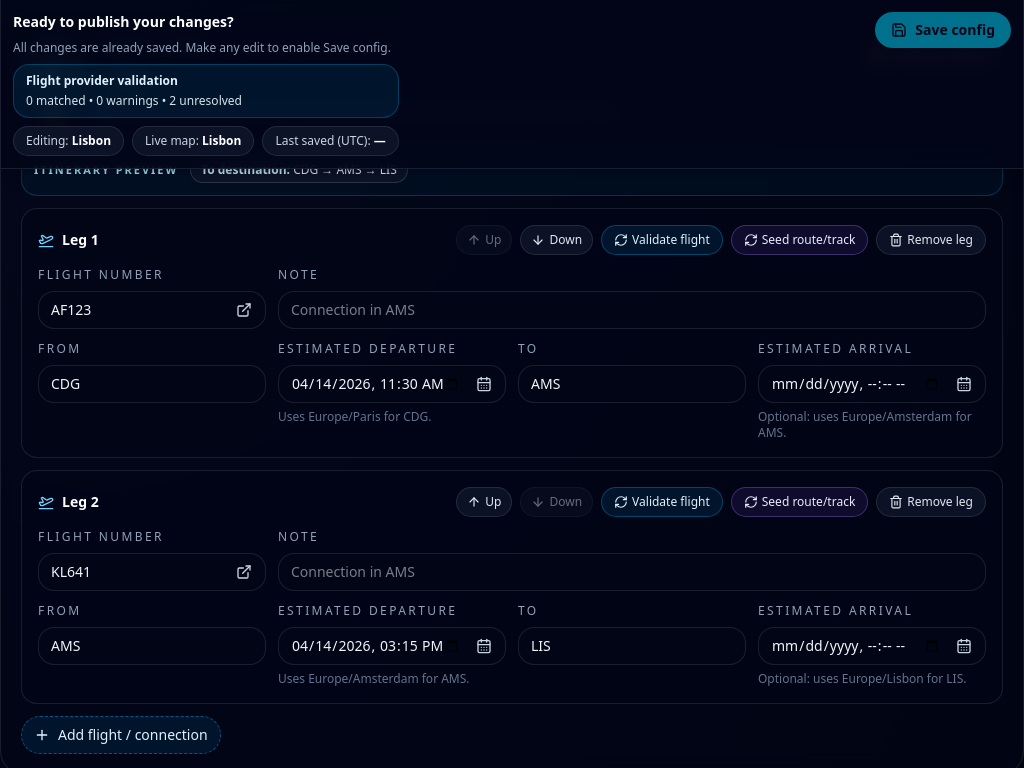
it: FriendsConfigClient › keeps the dropdown open for a unique exact airport code match so the name stays visible
This screenshot has width=1024, height=768.
(page scrolled)
Type "jfk" into the field named "from" at (152, 384), box [38,365,266,403]
(page scrolled)
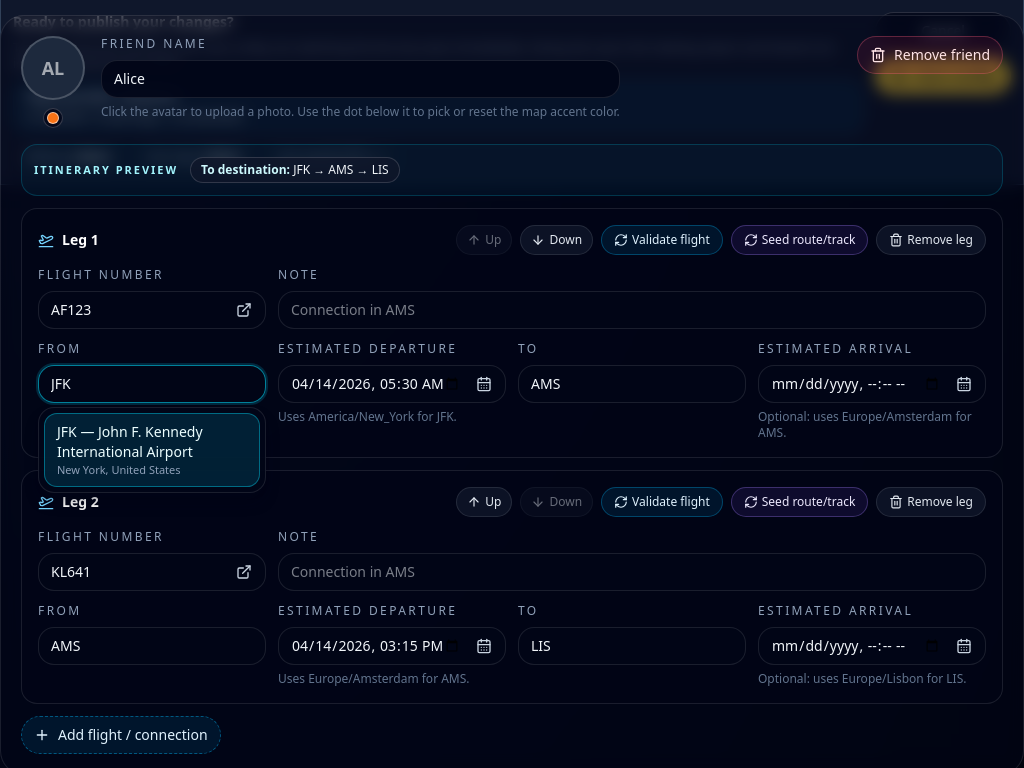
Check: the option "JFK — John F. Kennedy International Airport" is shown, box [45,414,259,486]
